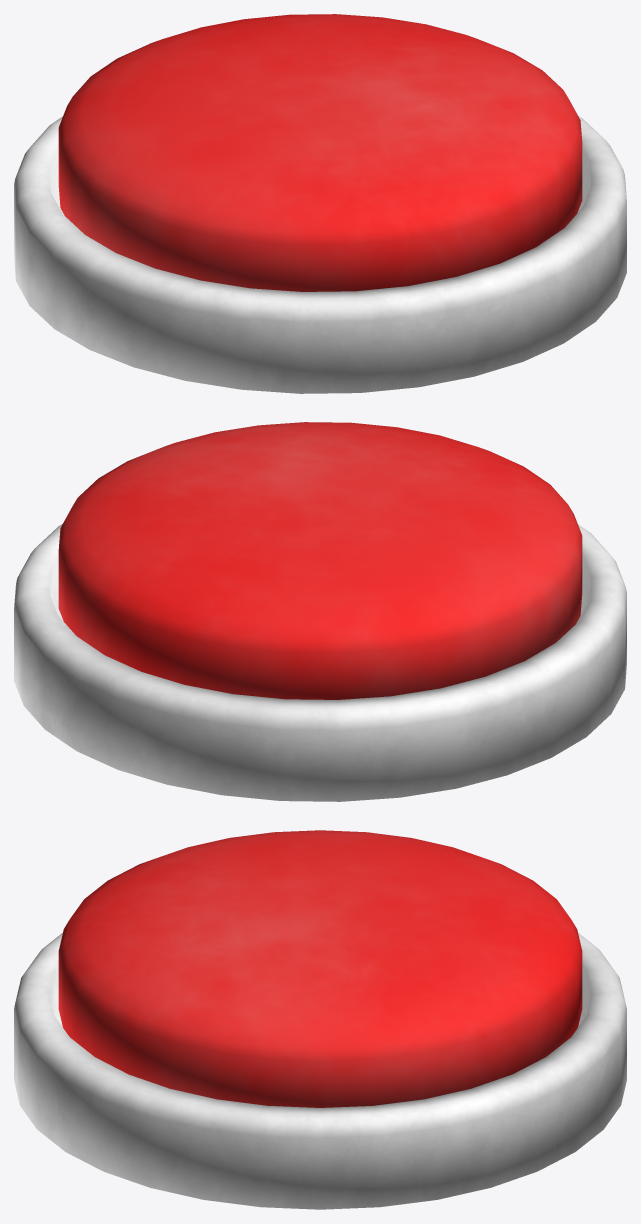
File: button.glb
3 views of the same model, one above another, from view 1: azimuth 30°, elevation 25°; view 2: azimuth 150°, elevation 25°; view 3: azimuth 270°, elevation 25° (orthographic).
Parts seen in each view (by area): view 1: Circle.002_1, Circle.001_0; view 2: Circle.002_1, Circle.001_0; view 3: Circle.002_1, Circle.001_0.
Boxes of the visible parts, x1,y1,x2,y2 form: Circle.002_1: [58, 14, 582, 291]; Circle.001_0: [14, 116, 626, 393]; Circle.002_1: [58, 422, 582, 699]; Circle.001_0: [14, 524, 626, 801]; Circle.002_1: [58, 830, 582, 1107]; Circle.001_0: [14, 933, 626, 1209].
Size of the model in its own units: 2 by 0.6299 by 2.
Materials: 2 (2 with a texture image).
